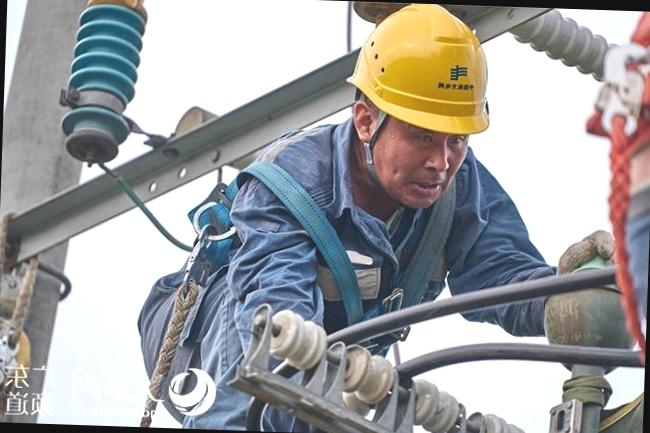helmet: (344, 0, 494, 132)
no_vest: (240, 166, 446, 391)
person: (221, 0, 515, 433)
